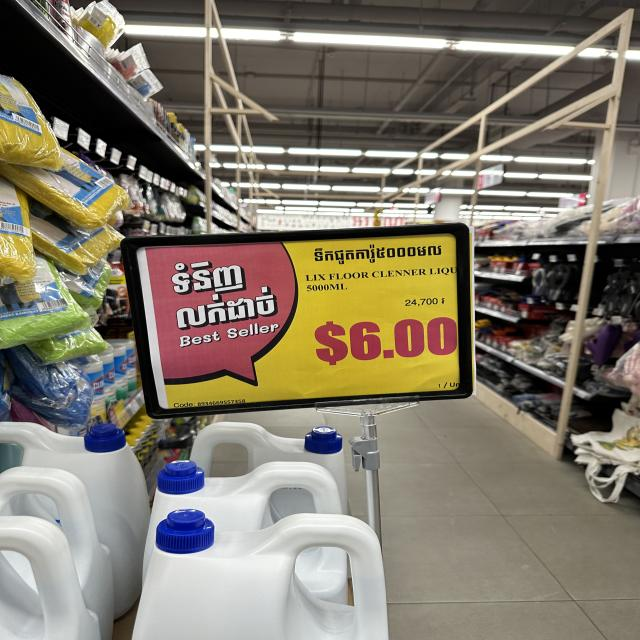163: (305, 310, 458, 370)
Yolov11kh: (167, 282, 279, 335), (305, 236, 447, 268), (160, 255, 249, 300)
